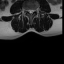CCS_normal: (30, 8, 32, 16)
LFS_normal: (34, 8, 36, 13)
LLS_normal: (32, 8, 33, 14)
RFS_stenosis: (26, 7, 28, 13)
RLS_normal: (28, 8, 30, 14)
